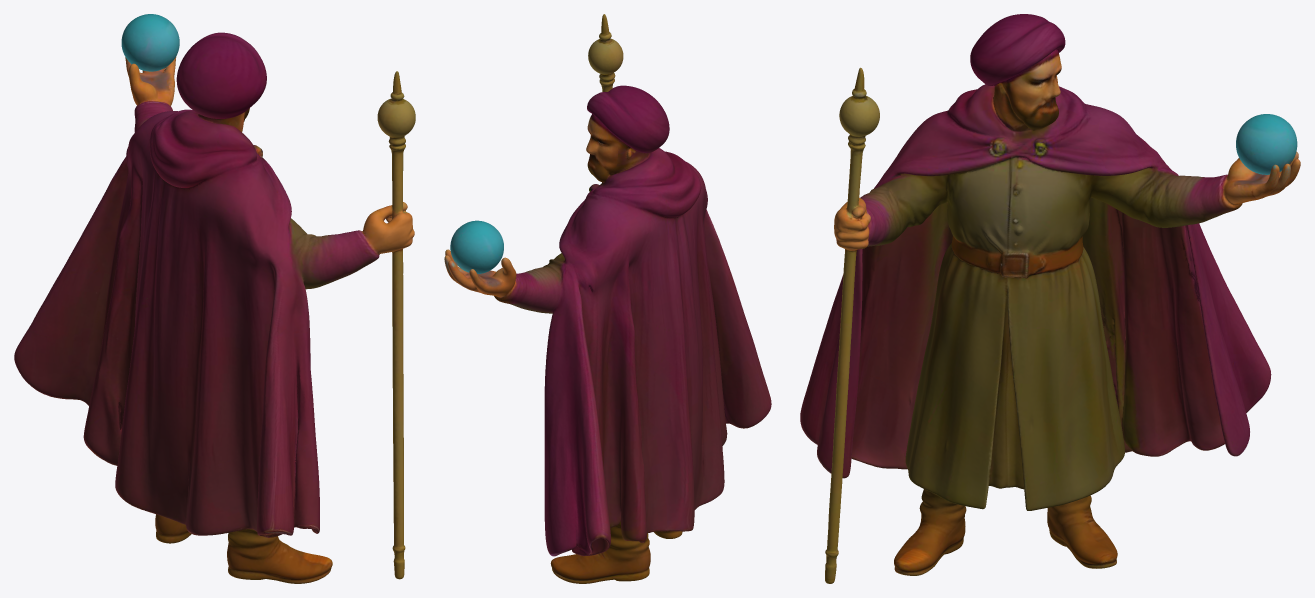
The picture shows the model from 3 angles, left to right: view 1: azimuth 30°, elevation 25°; view 2: azimuth 150°, elevation 25°; view 3: azimuth 270°, elevation 25°; orthographic projection. The views are drawn at different scales.
Parts seen in each view (by area): view 1: tripo_node_bf2e865f-9a68-4104-b178-bff287342fb6; view 2: tripo_node_bf2e865f-9a68-4104-b178-bff287342fb6; view 3: tripo_node_bf2e865f-9a68-4104-b178-bff287342fb6.
Boxes of the visible parts, x1,y1,x2,y2 form: tripo_node_bf2e865f-9a68-4104-b178-bff287342fb6: [14, 14, 415, 583]; tripo_node_bf2e865f-9a68-4104-b178-bff287342fb6: [444, 14, 771, 583]; tripo_node_bf2e865f-9a68-4104-b178-bff287342fb6: [800, 14, 1300, 583].
Size of the model in its own units: 0.4294 by 1 by 0.8439.
1 material, 1 textured.
